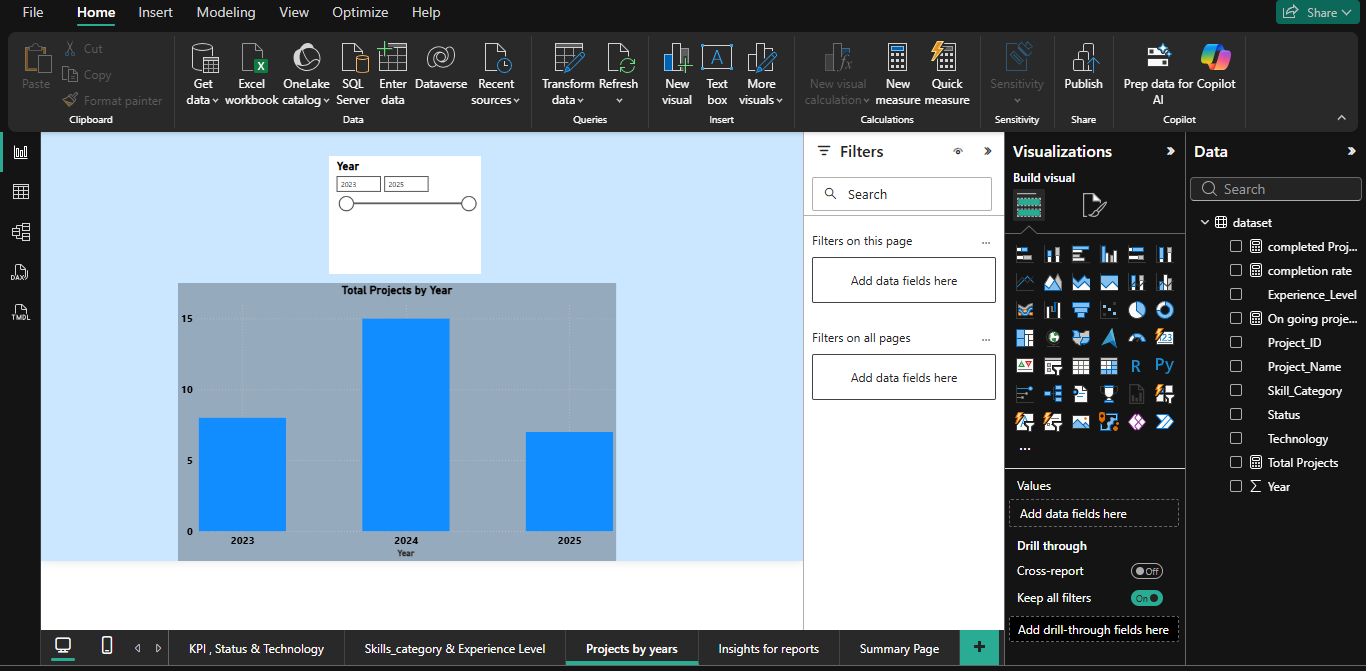

Layout of this report page (visuals, bound fields, positions):
{"tool":"powerbi","page":{"name":"Projects by years","canvas":[1280,720],"ordinal":2},"visuals":[{"type":"lineStackedColumnComboChart","fields":{"Y":["dataset.Total Projects"],"Category":["dataset.Year"]},"box":[30.2,253.6,609.8,419.9],"z":0},{"type":"slicer","fields":{"Values":["dataset.Year"]},"box":[134.4,35.3,255.3,198.2],"z":1000}]}

Visuals, with their boxes on the page's 1280x720 design canvas (x1, y1, x2, y2). These are canvas units, not pixel positions in the 1366x671 screenshot, which may show the page scaled, cropped or inside an application window:
lineStackedColumnComboChart - dataset.Total Projects x dataset.Year: [x1=30, y1=254, x2=640, y2=674]
slicer - dataset.Year: [x1=134, y1=35, x2=390, y2=234]
